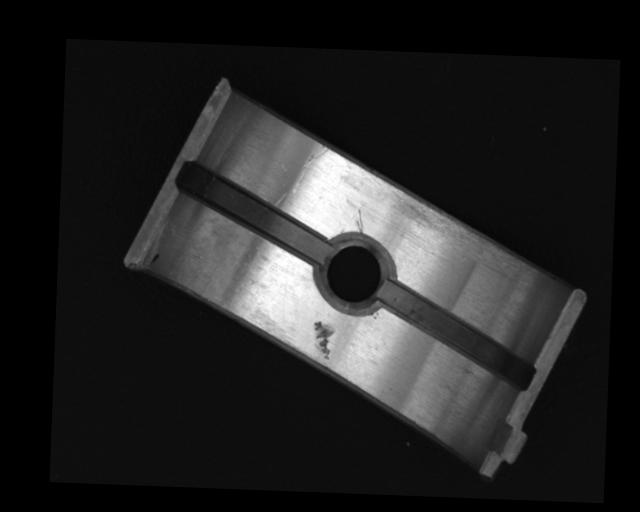blot: (146, 252, 161, 267)
bruise: (311, 320, 333, 360)
gap: (374, 279, 536, 388), (175, 162, 333, 263)
hole: (315, 236, 395, 313)
nick: (290, 145, 329, 197), (354, 208, 364, 233)
scratch: (388, 189, 530, 277)
